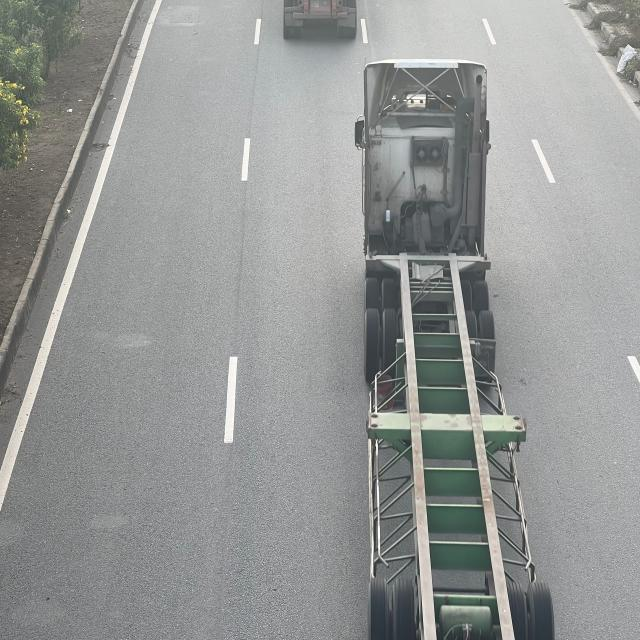container: (362, 50, 530, 634)
